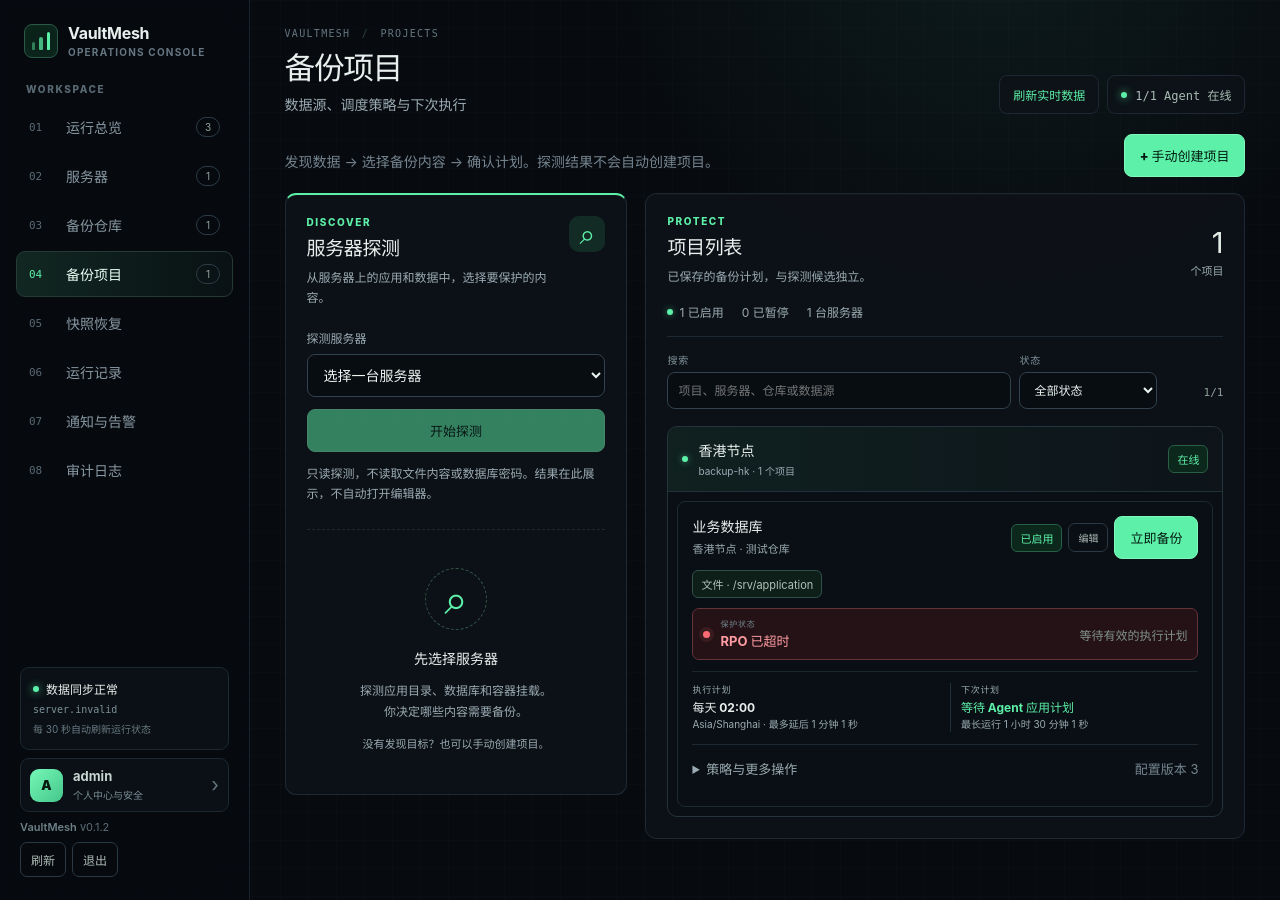
complete application pages › keeps the editor and its values when saving fails
Click the button "编辑".
click(1088, 538)  # box [1068, 523, 1108, 552]
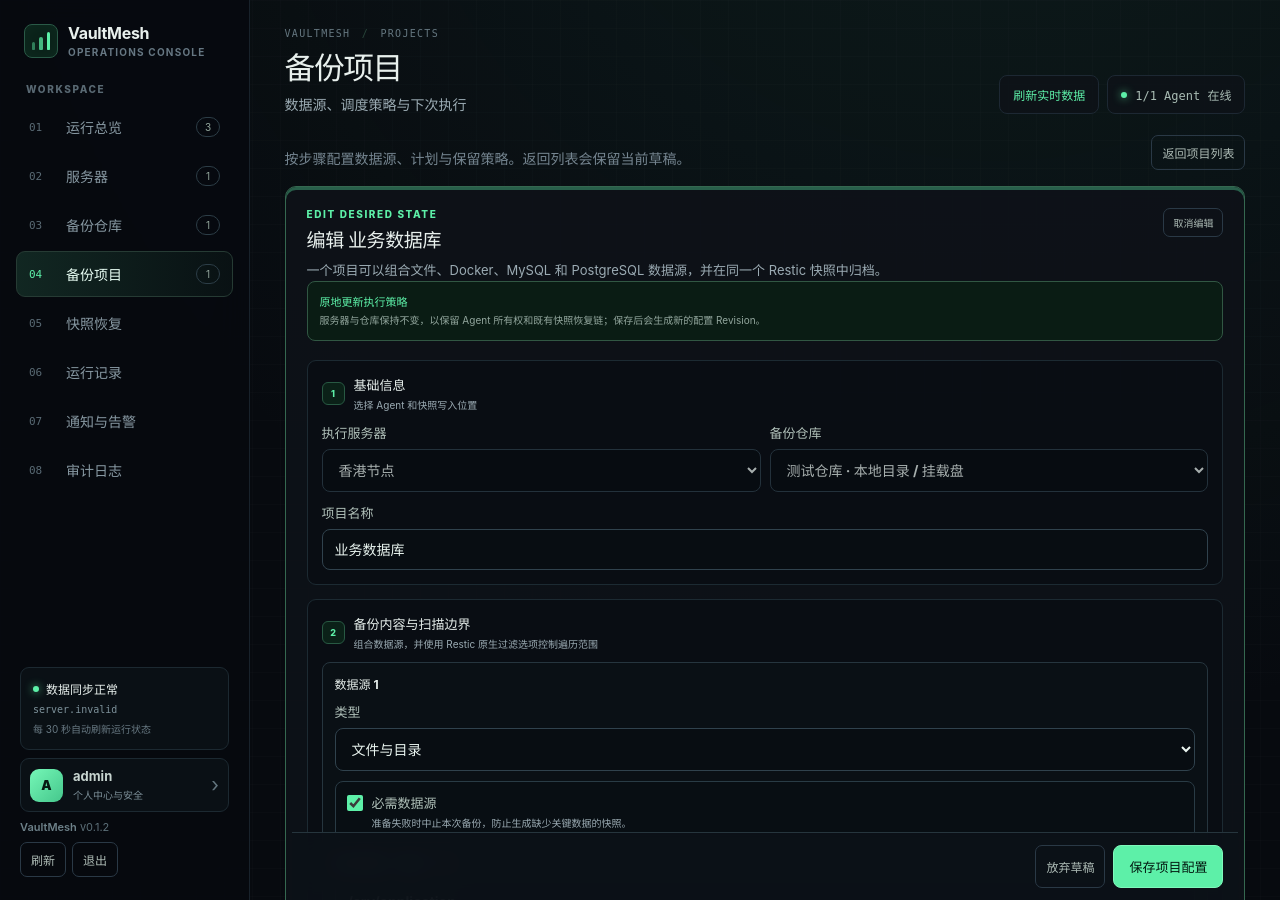
Replace the text in the field labelled "项目名称" with "保留此修改" at (765, 549), box [322, 529, 1208, 570]
(page scrolled)
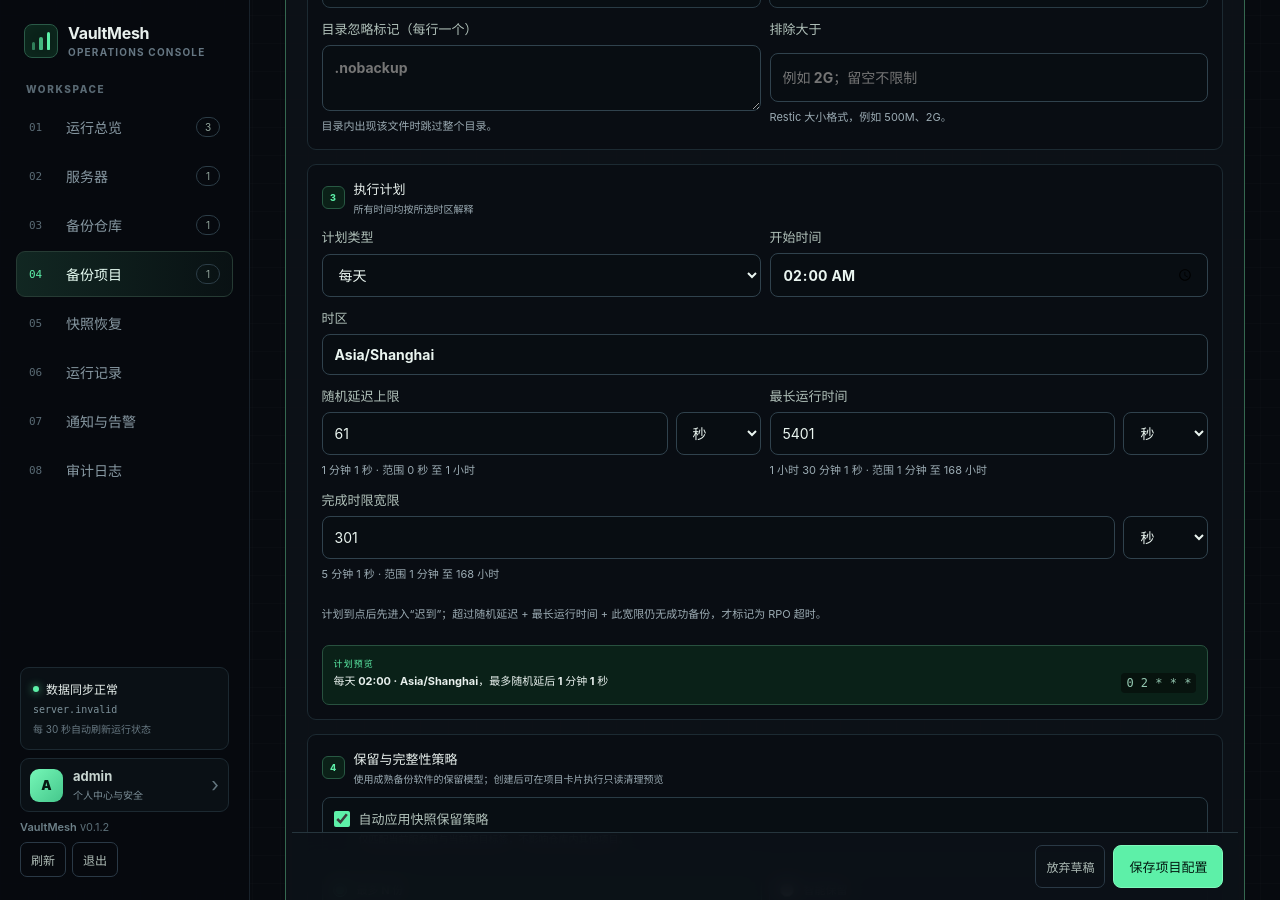
Submit the form
(page scrolled)
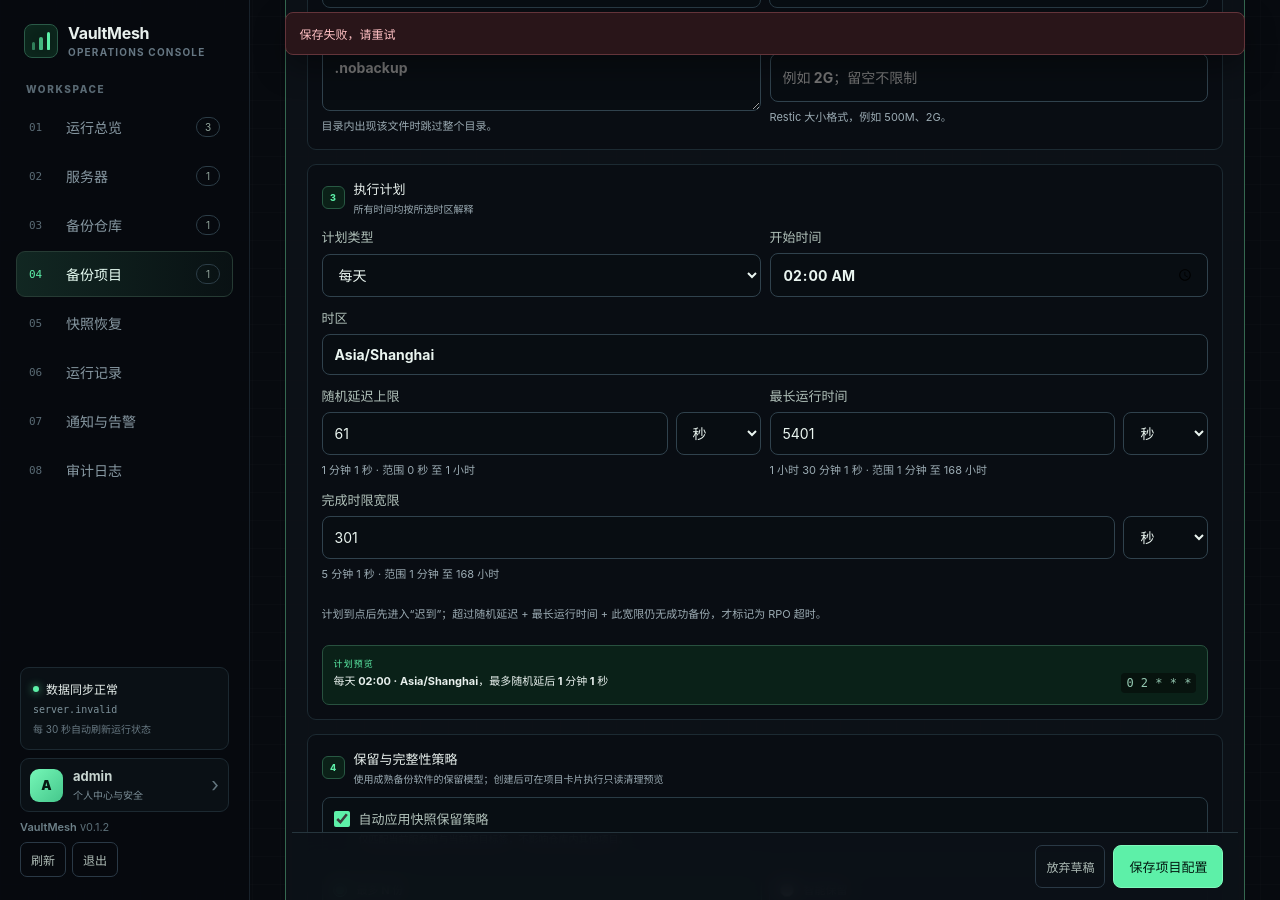
Expected: the text "保存失败，请重试" is shown, [284, 12, 1245, 55]
